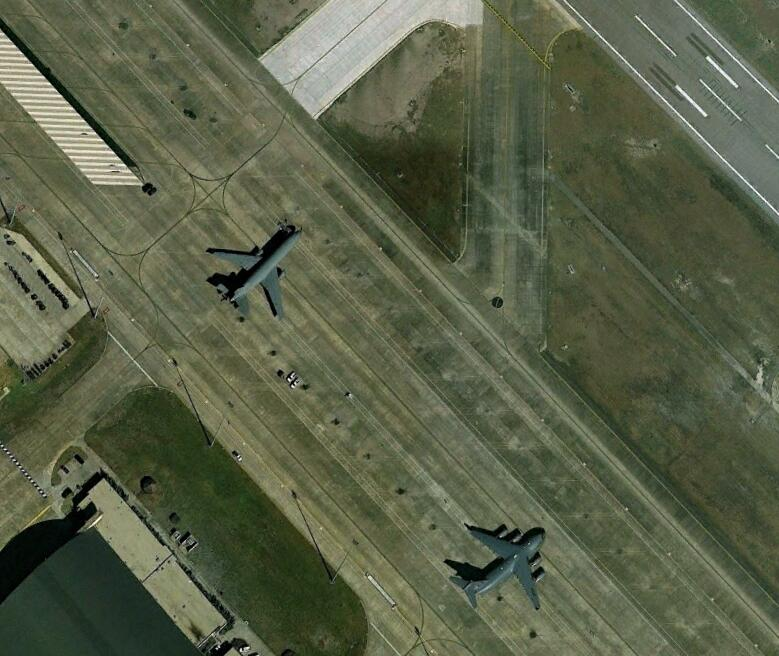A18: (206, 225, 310, 323)
A3: (452, 523, 550, 613)
